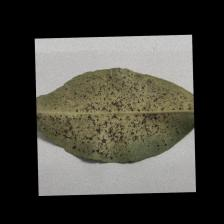canker: (57, 79, 168, 148)
